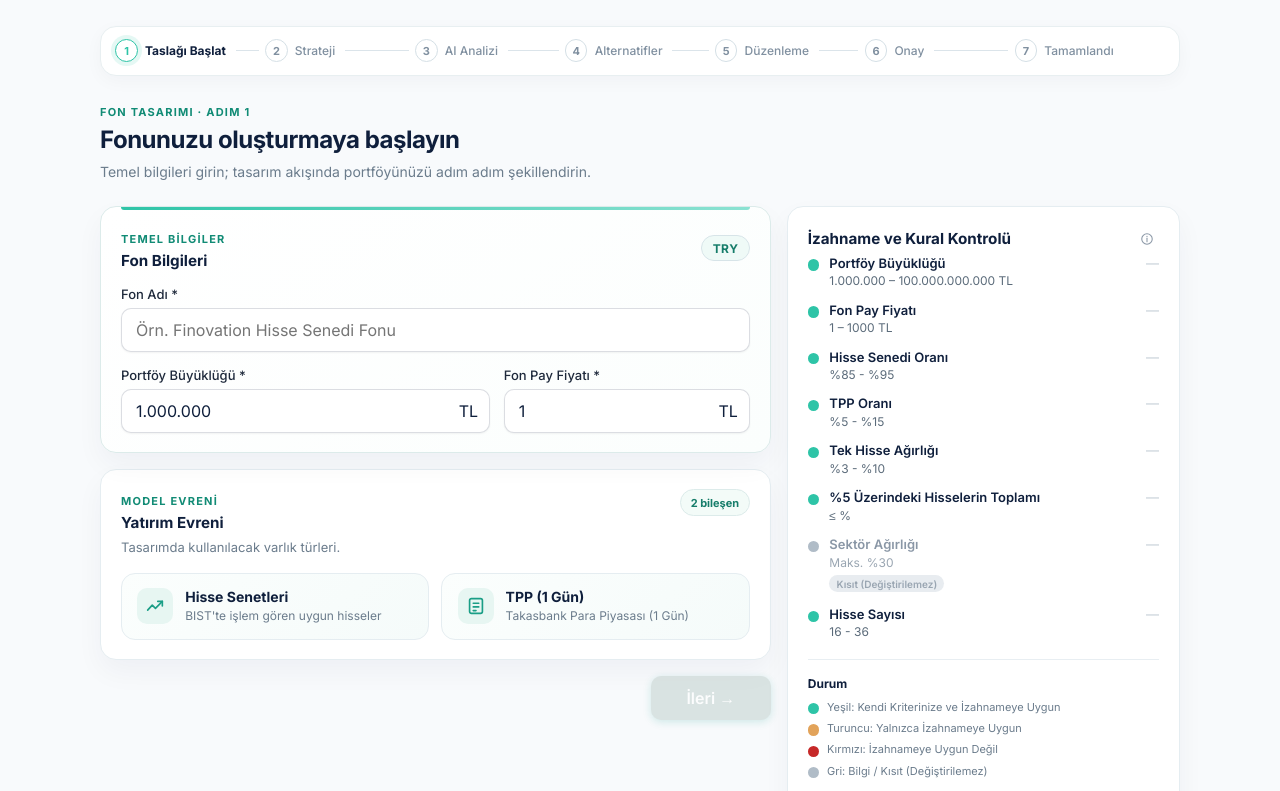
Test case: StartFundDraftPage › sayı içeren fon adında ileri kapalı kalır
Expected: the text "TRY" is shown, [701,235,750,261]
Type "Fon 2" into the field labelled "Fon Adı *" at {"x": 435, "y": 330}, box [121,308,750,352]
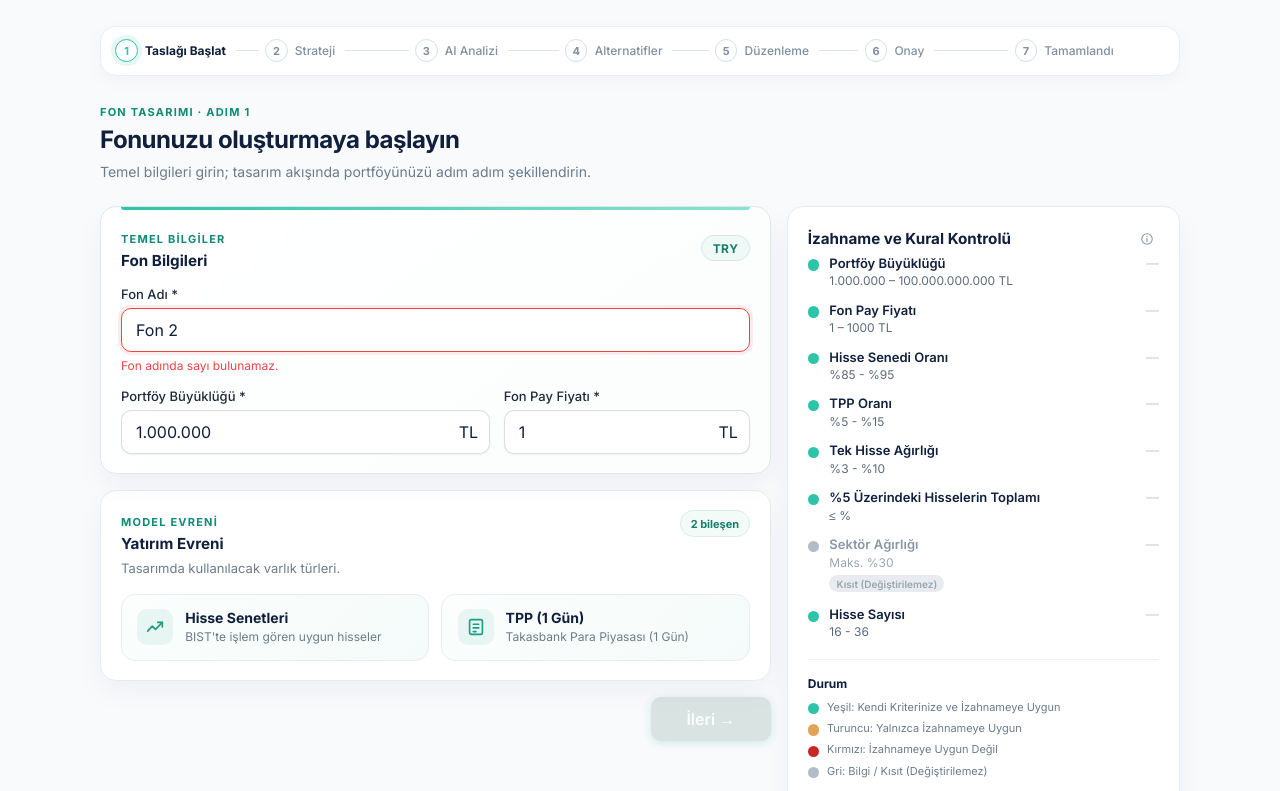
Expected: the button "İleri →" is disabled, [651,698,771,742]
Expected: the text "Fon adında sayı bulunamaz." is shown, [121,358,278,372]
